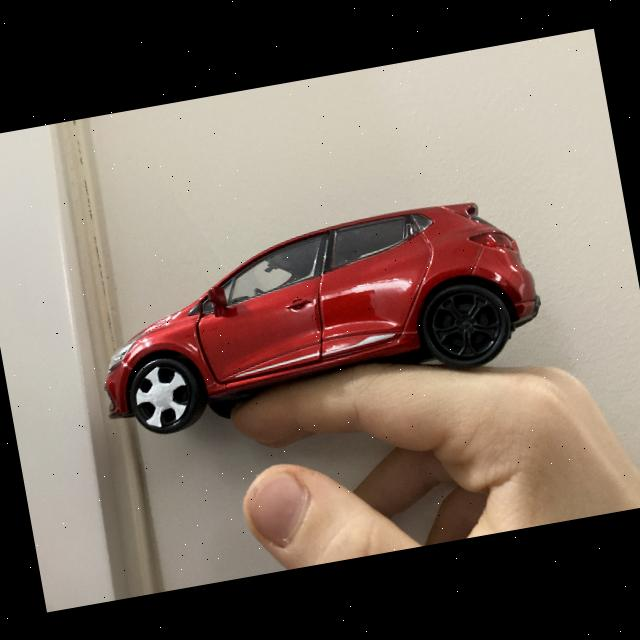Dogru_Jant: (428, 290, 502, 362)
Yanlis_Jant: (132, 363, 192, 430)
